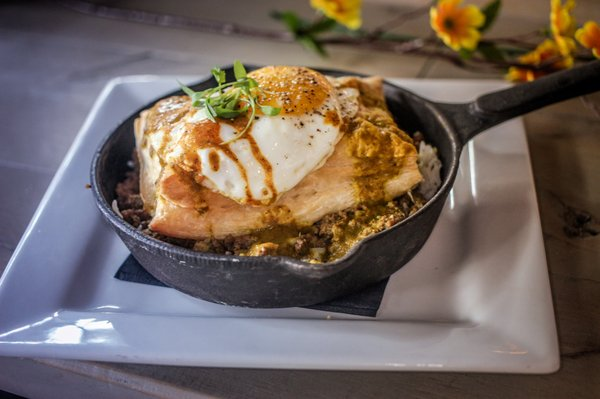sushi: (63, 30, 595, 318), (90, 59, 461, 312)
